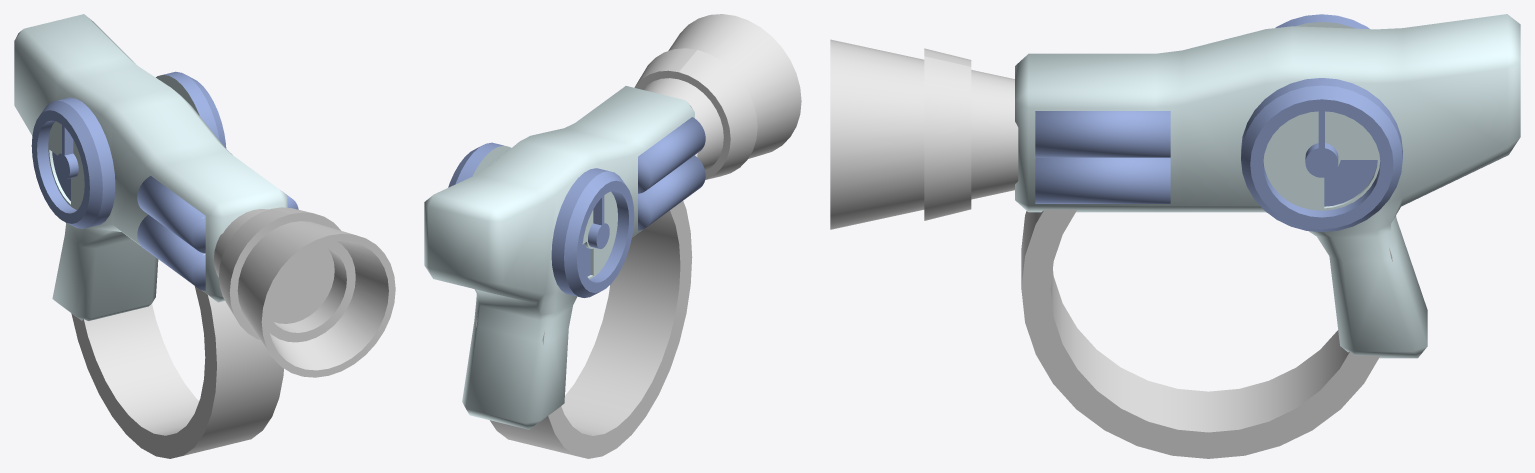
File: timegun.fbx
3 renders of one model, left to right at view 1: azimuth 30°, elevation 25°; view 2: azimuth 150°, elevation 25°; view 3: azimuth 270°, elevation 25°, orthographic. The views are drawn at different scales.
Visible parts, largest first — view 1: Cube, Cube.001, Cube.002, Cube.003, Cube.004; view 2: Cube, Cube.002, Cube.001, Cube.003, Cube.004; view 3: Cube, Cube.001, Cube.002, Cube.003, Cube.004.
Boxes of the visible parts, bbox=[...] form: Cube: bbox=[14, 14, 298, 320]; Cube.001: bbox=[213, 207, 395, 377]; Cube.002: bbox=[71, 286, 283, 458]; Cube.003: bbox=[31, 71, 226, 228]; Cube.004: bbox=[56, 125, 78, 179]; Cube: bbox=[424, 86, 705, 429]; Cube.002: bbox=[476, 201, 692, 458]; Cube.001: bbox=[634, 14, 801, 179]; Cube.003: bbox=[448, 142, 634, 297]; Cube.004: bbox=[588, 195, 609, 249]; Cube: bbox=[1015, 14, 1520, 358]; Cube.001: bbox=[830, 39, 1018, 229]; Cube.002: bbox=[1021, 209, 1392, 458]; Cube.003: bbox=[1241, 14, 1402, 232]; Cube.004: bbox=[1305, 111, 1338, 177].
Bounding box in the file's own units: 104 × 240 × 369.
